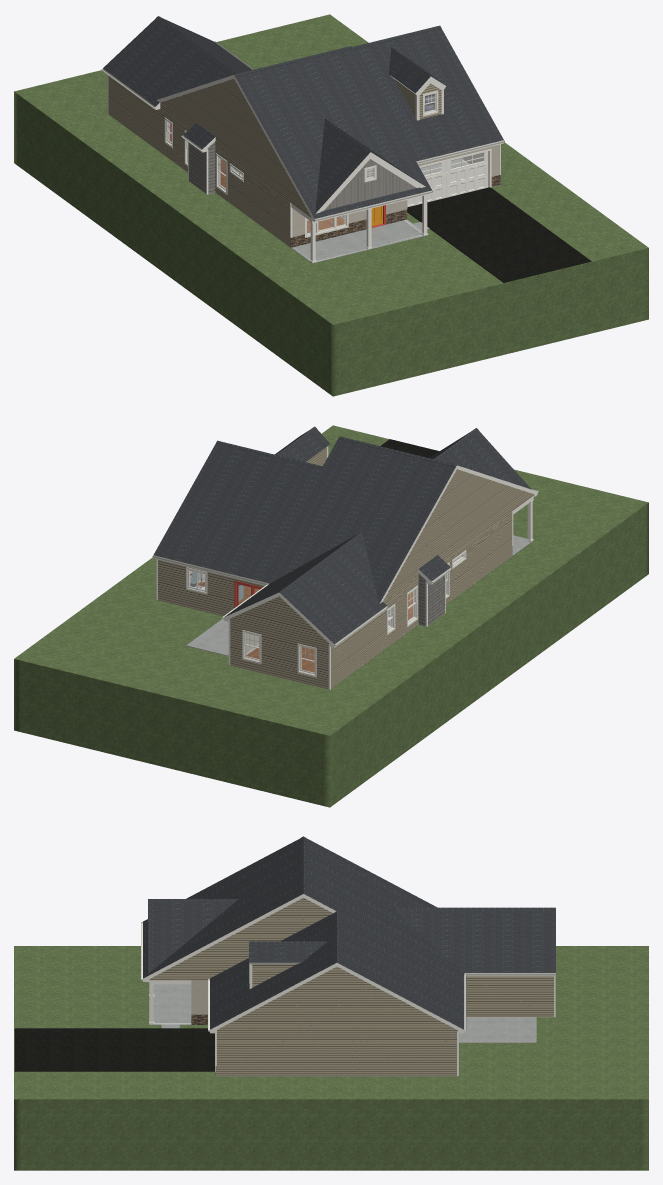
File: house.dae
3 renders of one model, top to bottom at view 1: azimuth 30°, elevation 25°; view 2: azimuth 150°, elevation 25°; view 3: azimuth 270°, elevation 25°, orthographic.
Visible parts, largest first — view 1: geo_197, geo_131, geo_146, geo_208, geo_11, geo_183, geo_174, geo_61, geo_182, geo_173, geo_127, geo_185; view 2: geo_197, geo_131, geo_146, geo_11, geo_127, geo_183, geo_173, geo_71; view 3: geo_197, geo_131, geo_146, geo_208, geo_11, geo_183, geo_61, geo_182.
Boxes of the visible parts, x1=… form: geo_197: x1=14, y1=14, x2=648, y2=396; geo_131: x1=103, y1=16, x2=503, y2=218; geo_146: x1=108, y1=76, x2=441, y2=247; geo_208: x1=407, y1=187, x2=591, y2=282; geo_11: x1=101, y1=41, x2=504, y2=262; geo_183: x1=291, y1=159, x2=467, y2=263; geo_174: x1=324, y1=159, x2=415, y2=210; geo_61: x1=296, y1=220, x2=421, y2=256; geo_182: x1=292, y1=144, x2=499, y2=237; geo_173: x1=189, y1=141, x2=215, y2=193; geo_127: x1=167, y1=122, x2=483, y2=232; geo_185: x1=290, y1=209, x2=407, y2=247; geo_197: x1=14, y1=425, x2=648, y2=807; geo_131: x1=153, y1=426, x2=531, y2=644; geo_146: x1=158, y1=447, x2=533, y2=688; geo_11: x1=152, y1=444, x2=538, y2=689; geo_127: x1=189, y1=554, x2=463, y2=672; geo_183: x1=186, y1=535, x2=533, y2=655; geo_173: x1=418, y1=573, x2=444, y2=626; geo_71: x1=195, y1=582, x2=412, y2=672; geo_197: x1=14, y1=946, x2=648, y2=1170; geo_131: x1=143, y1=836, x2=555, y2=1029; geo_146: x1=149, y1=897, x2=553, y2=1075; geo_208: x1=14, y1=1028, x2=214, y2=1071; geo_11: x1=141, y1=894, x2=555, y2=1075; geo_183: x1=149, y1=984, x2=536, y2=1042; geo_61: x1=153, y1=984, x2=191, y2=1022; geo_182: x1=191, y1=980, x2=207, y2=1014.
Size of the model in its own units: 720 by 1259 by 445.
53 materials, 27 textured.
